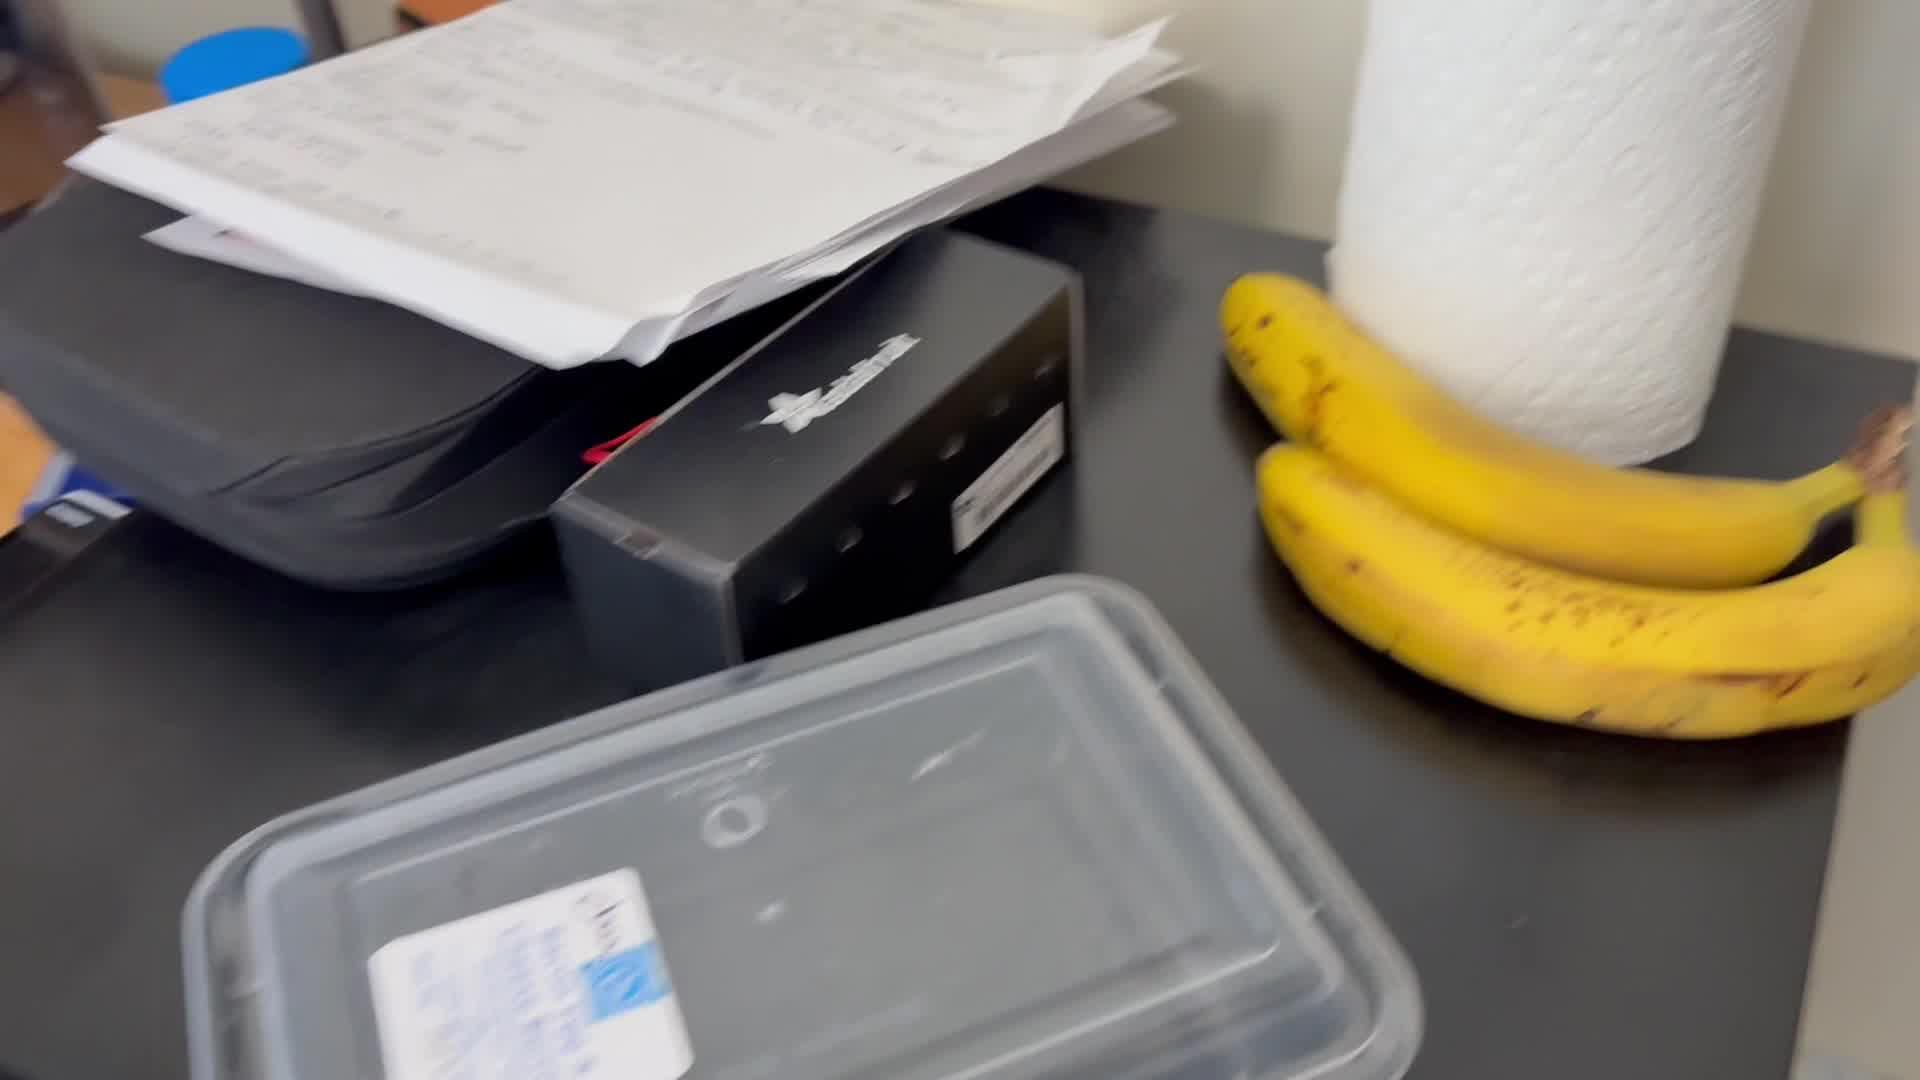lp_cup_lids: (170, 567, 1433, 1080)
